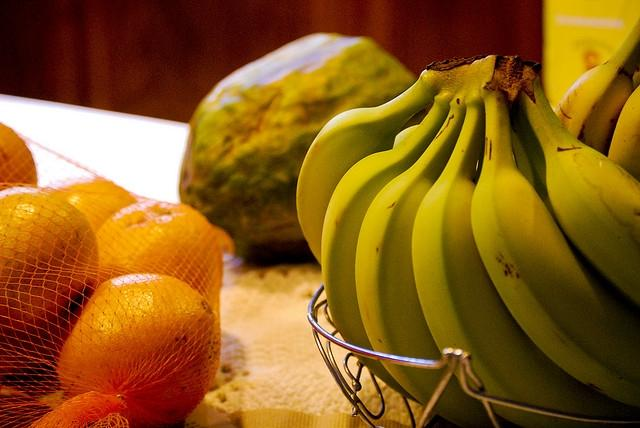banana: (411, 55, 640, 428), (471, 84, 639, 408), (355, 94, 494, 428), (322, 91, 452, 403), (295, 59, 468, 260), (519, 77, 640, 306), (554, 17, 640, 156), (607, 85, 640, 182), (509, 129, 534, 186)
orange: (56, 272, 221, 426), (90, 201, 224, 310), (0, 192, 101, 332), (42, 179, 138, 234), (0, 124, 37, 192)
